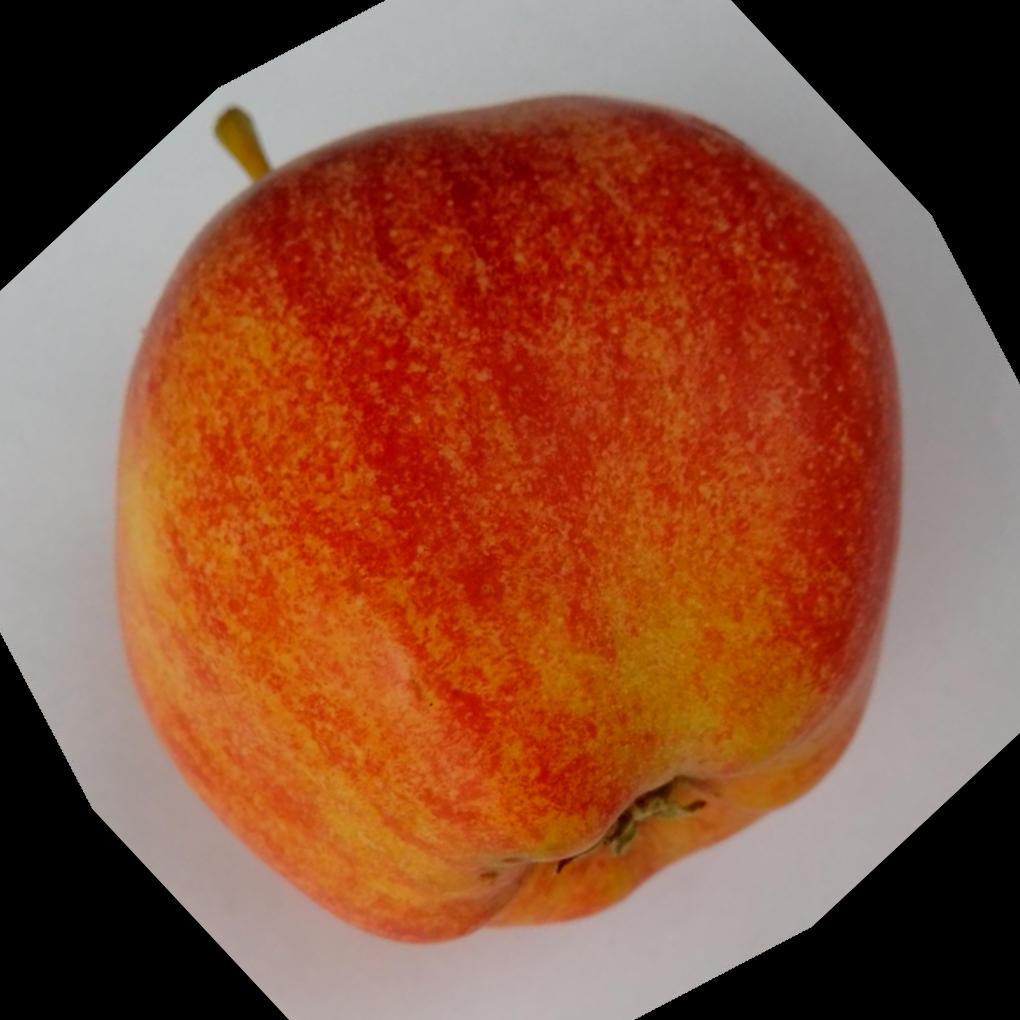FreshGuava: (107, 88, 902, 944)
